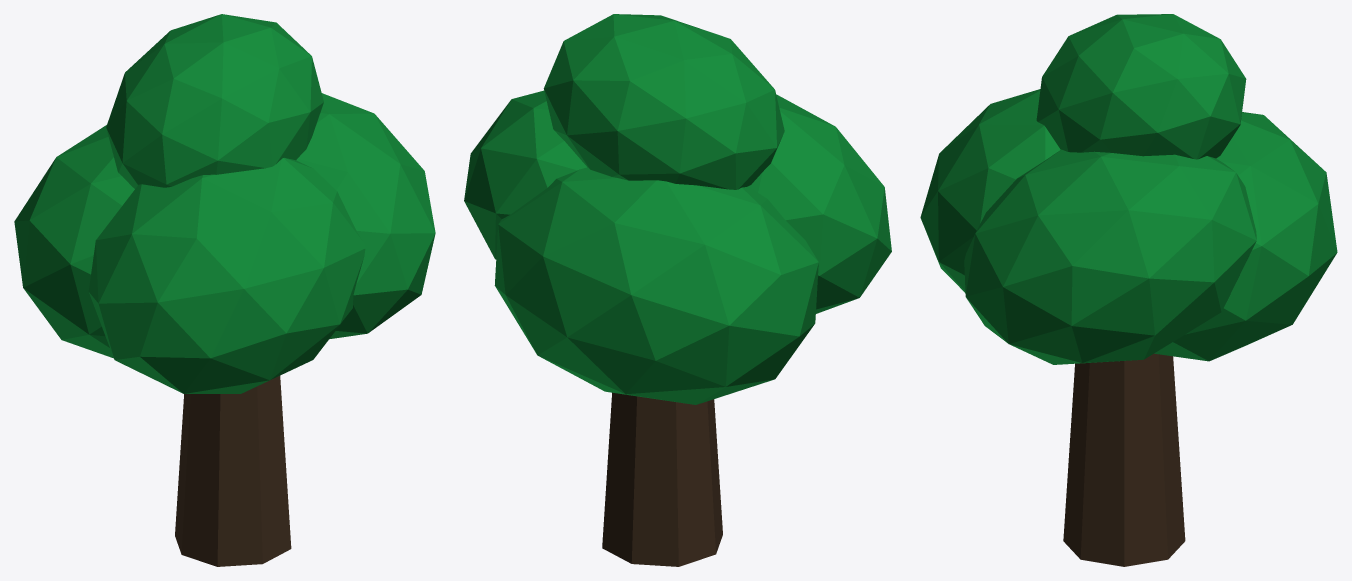
The model's file is Tree.fbx.
3 views of the same model, side by side, from view 1: azimuth 30°, elevation 25°; view 2: azimuth 150°, elevation 25°; view 3: azimuth 270°, elevation 25° (orthographic). The views are drawn at different scales.
Visible parts, largest first — view 1: Cube; view 2: Cube; view 3: Cube.
Boxes of the visible parts, left/top/right/bottom form: Cube: left=14, top=14, right=435, bottom=566; Cube: left=464, top=14, right=891, bottom=566; Cube: left=920, top=14, right=1337, bottom=566.
Size of the model in its own units: 1097 by 1535 by 1123.
